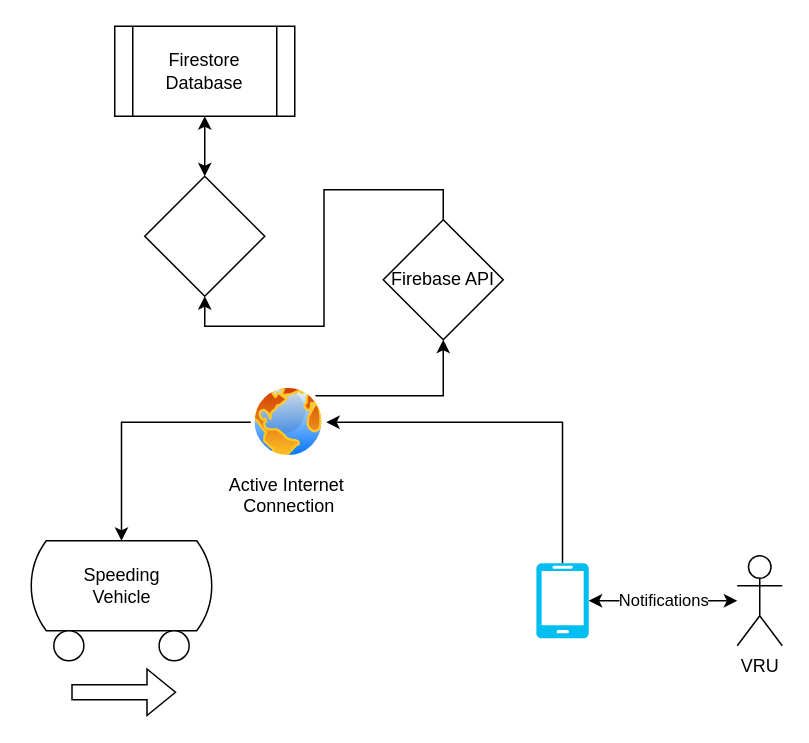
Image size: 809x743. Some labels were removed from this diagram. Here are the shapes that lost their labels. From the top down, the centre of each, then its label:
At point (204, 235): "Authenticate".
At point (562, 600): "Flutter Application".
